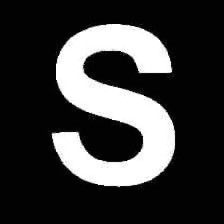LTR_S: (46, 14, 178, 192)
